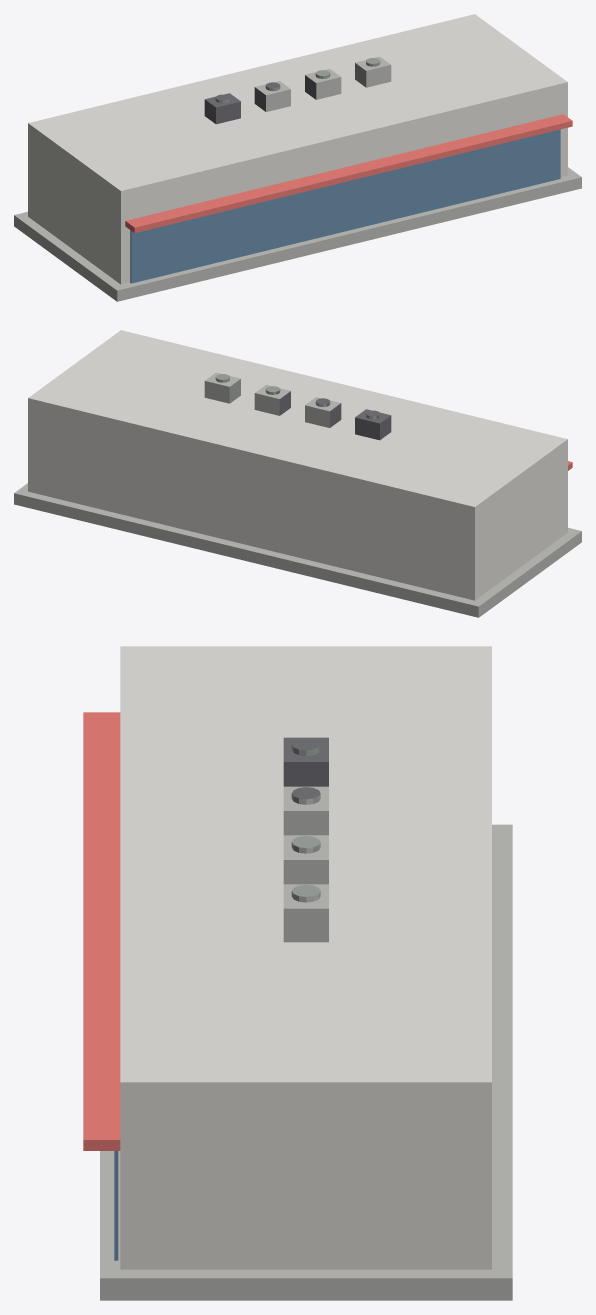
Rendered from strip_mall_retail_row.glb.
3 renders of one model, top to bottom at view 1: azimuth 30°, elevation 25°; view 2: azimuth 150°, elevation 25°; view 3: azimuth 270°, elevation 25°, orthographic. The views are drawn at different scales.
Parts seen in each view (by area): view 1: strip_mall_retail_row; view 2: strip_mall_retail_row; view 3: strip_mall_retail_row.
Part boxes in pixels (x1=…): strip_mall_retail_row: x1=14, y1=14, x2=581, y2=301; strip_mall_retail_row: x1=14, y1=330, x2=581, y2=617; strip_mall_retail_row: x1=83, y1=646, x2=512, y2=1300.
Bounding box in the file's own units: 26 × 6.85 × 10.4.
